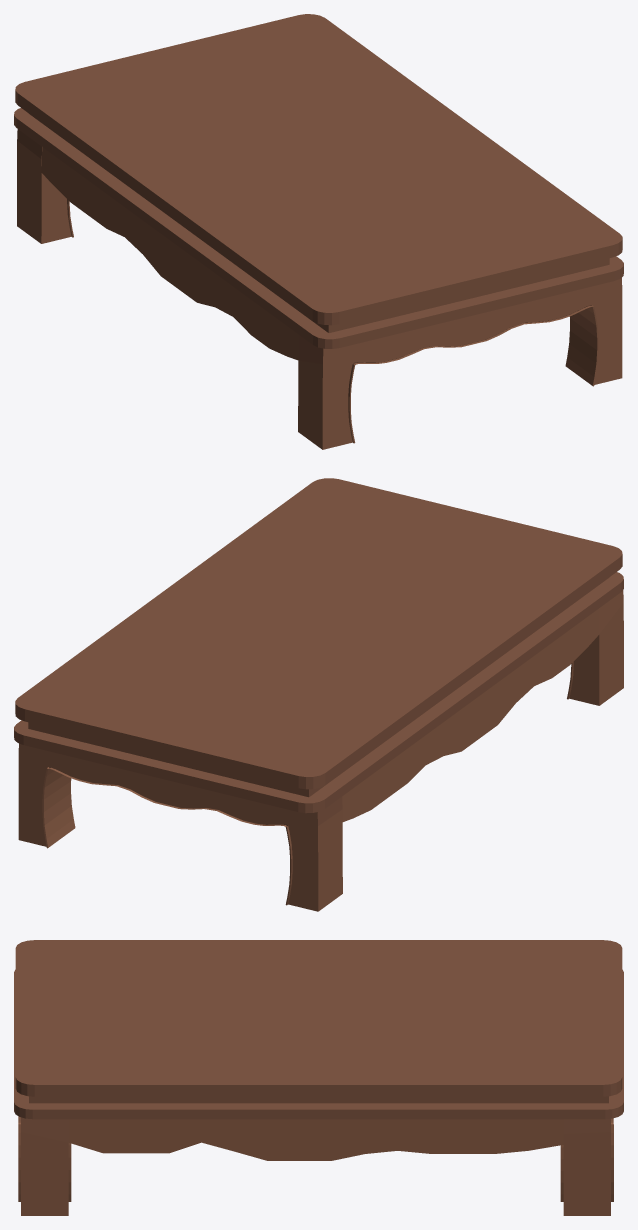
The model's file is Table1.fbx.
3 views of the same model, one above another, from view 1: azimuth 30°, elevation 25°; view 2: azimuth 150°, elevation 25°; view 3: azimuth 270°, elevation 25° (orthographic). The views are drawn at different scales.
Visible parts, largest first — view 1: Cube; view 2: Cube; view 3: Cube.
Boxes of the visible parts, x1,y1,x2,y2 form: Cube: (14,14,623,449); Cube: (14,478,623,911); Cube: (14,940,623,1215).
Size of the model in its own units: 364 by 156 by 646.
